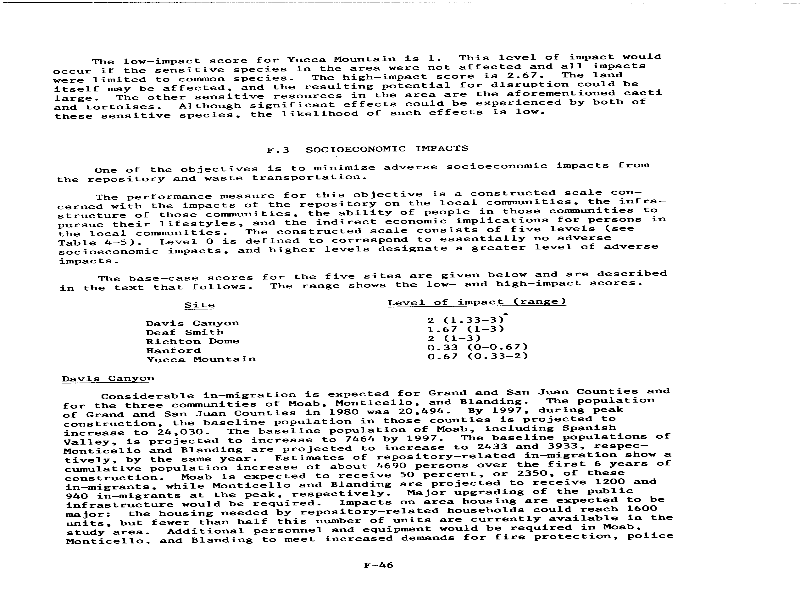table: (145, 294, 601, 374)
